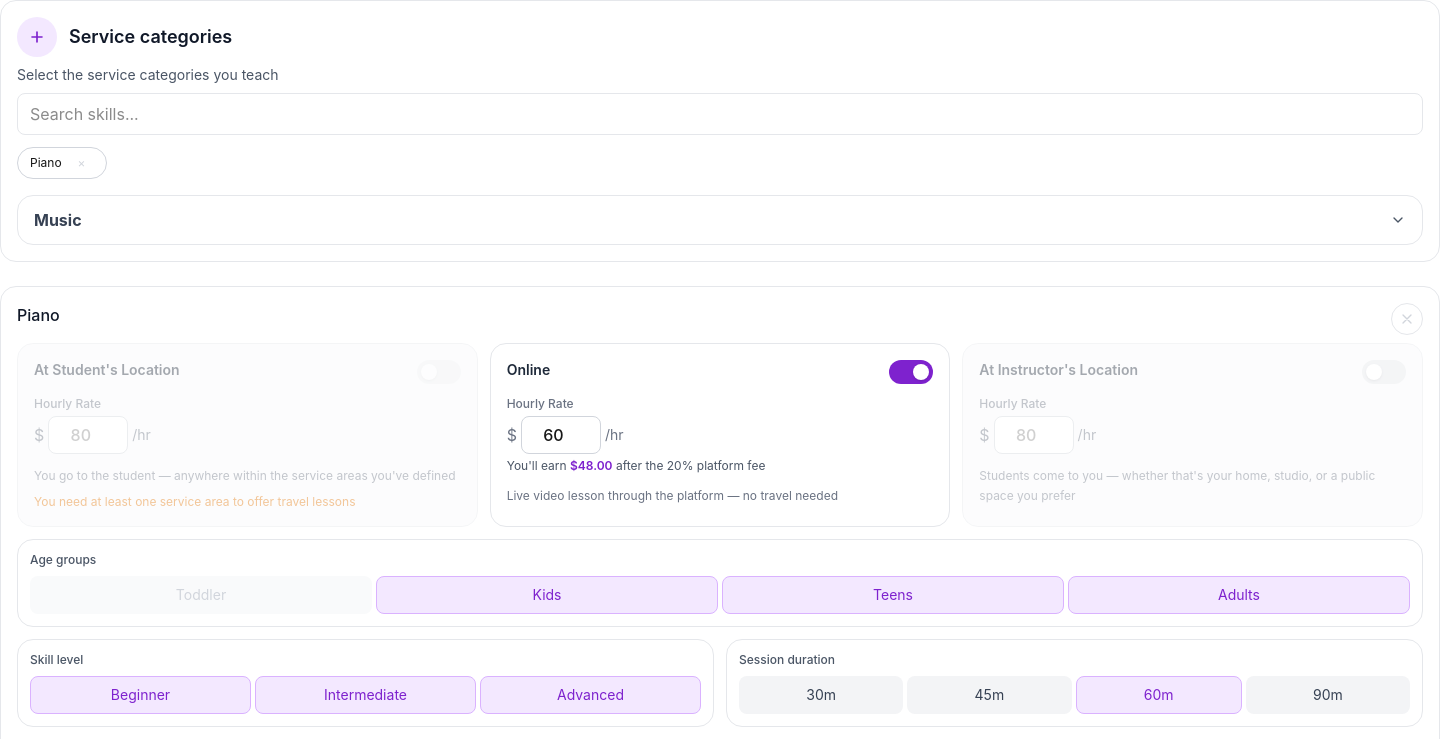
Test: SkillsPricingInline › Coverage improvement tests › prevents live instructor from removing last skill via toggleServiceSelection
Click on Music category
Click the button "Music": (58, 220) [18,196,1422,244]
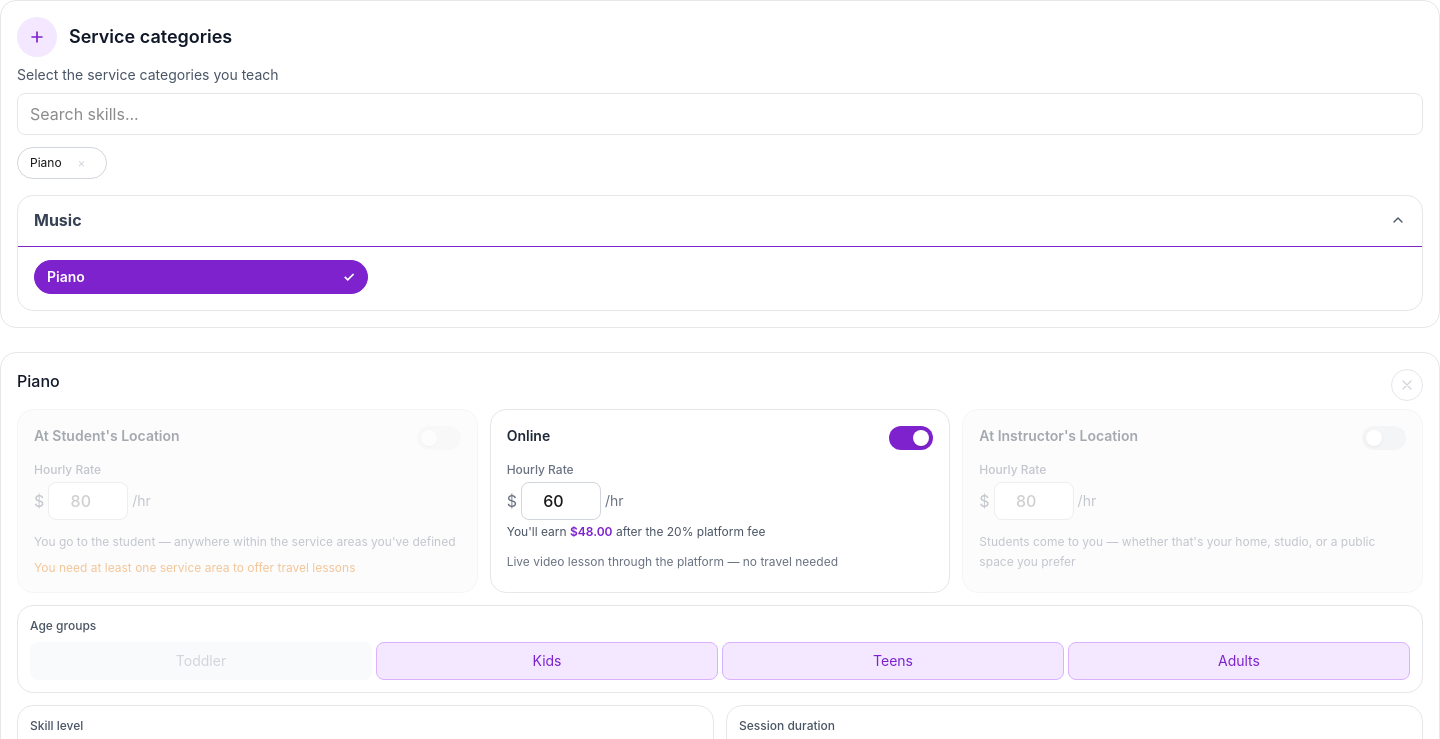
Try to toggle off the piano (currently selected)
Click the button "Piano ✓": (66, 276) [34,260,368,294]
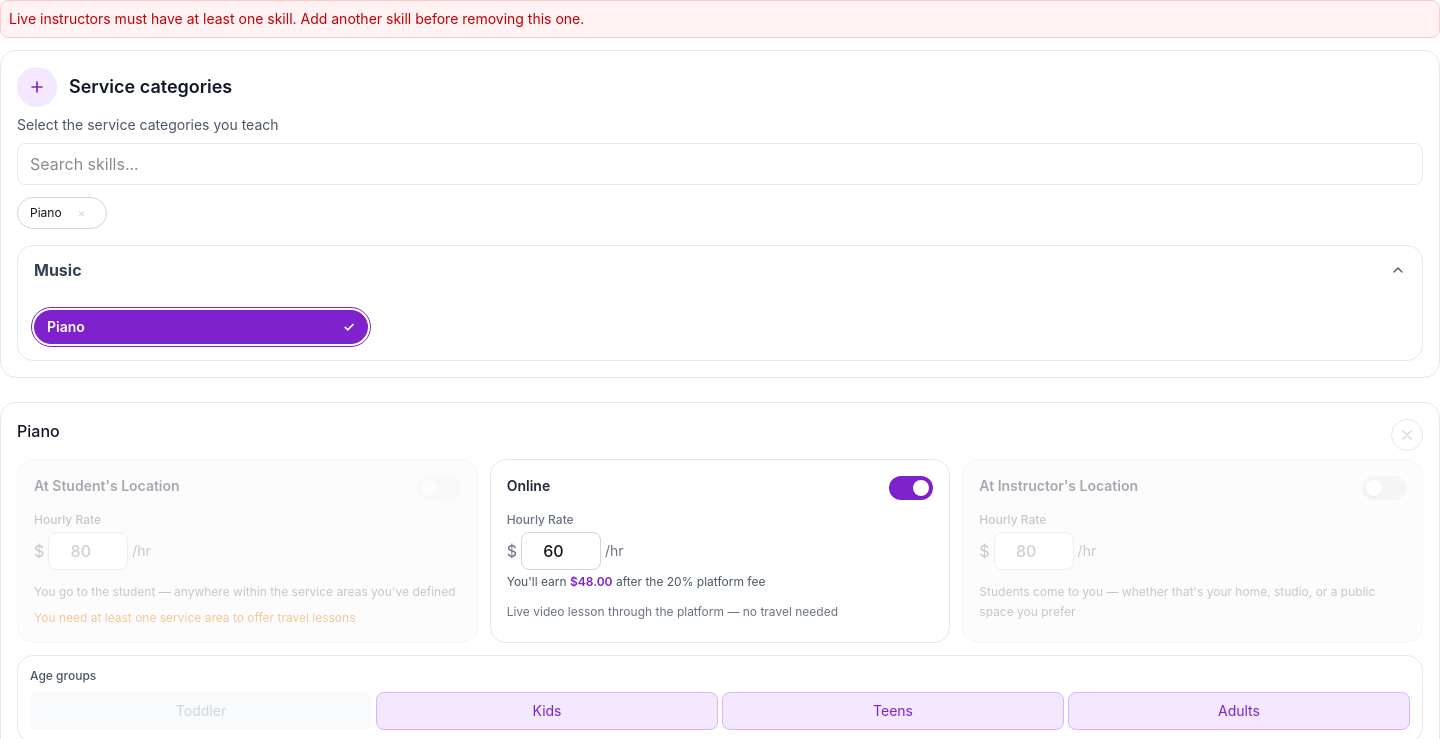
expect the text "must have at least one skill" is shown: met, box [9,10,584,27]
